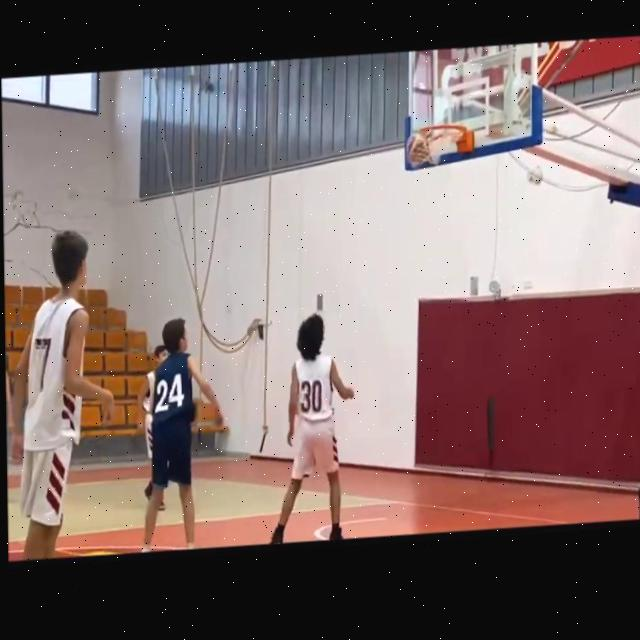basketball: (406, 131, 427, 167)
hoop: (404, 122, 470, 170), (404, 122, 470, 169)
